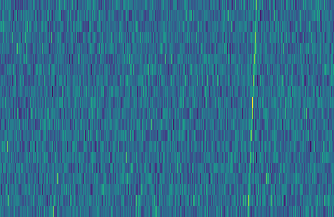signal: (244, 0, 262, 217)
